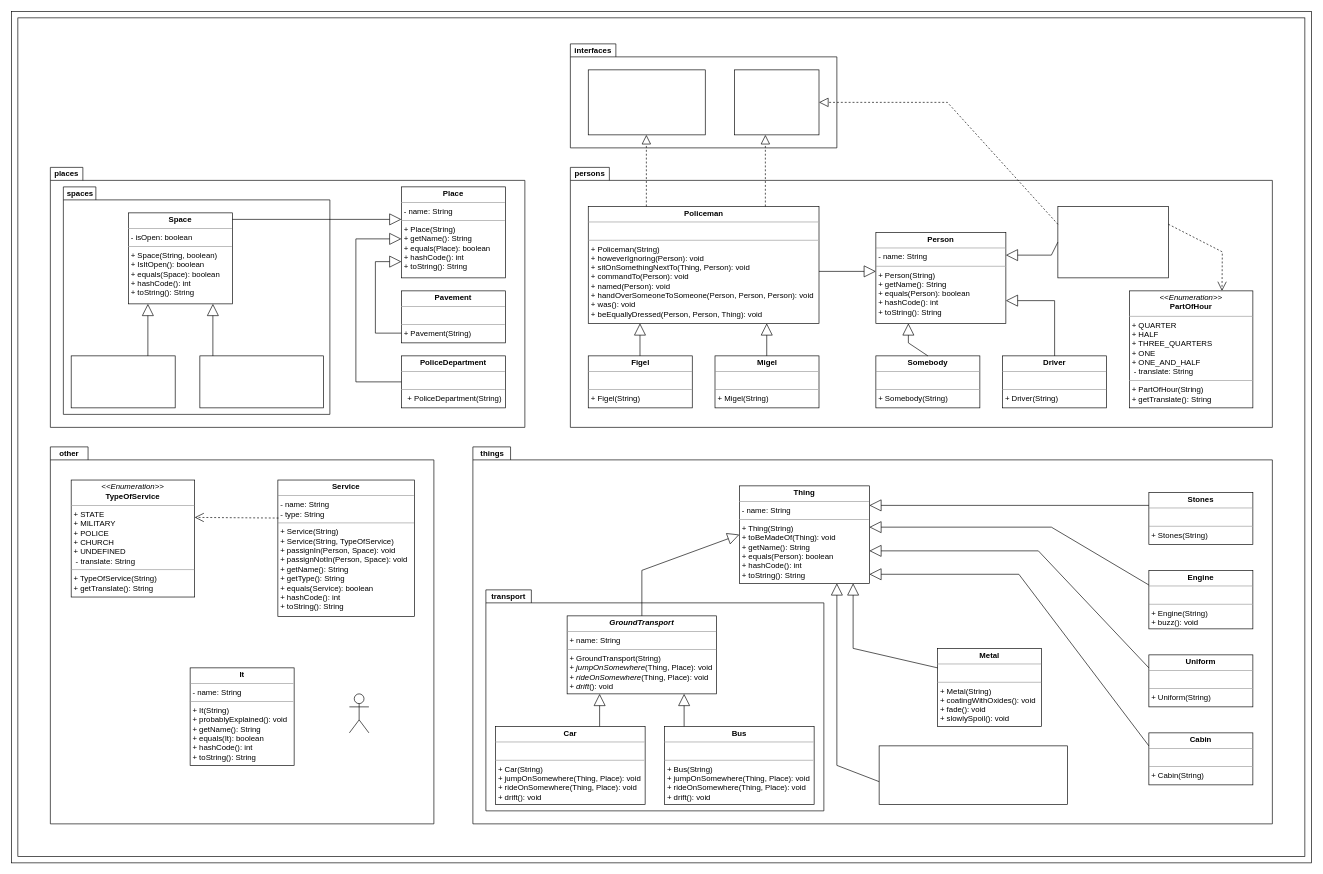
This 1323x874 diagram has some shape labels left out. The shapes that lost their labels are listed below. From the top down, each one's box as (x1, y1, x2, y2) in pixels, then its label:
(588, 69, 705, 135): <<Interface>> Nameable + named(Person person): void
(734, 69, 819, 135): <<Interface>> Wasable + was(): void
(1057, 206, 1168, 278): Neznayka + Neznayka(String) + was(): void + beSomewhereInTime(): void
(71, 355, 175, 408): Air + Air(String, boolean)
(199, 355, 323, 408): BadlyVentilated + BadlyVentilated(String, boolean)
(349, 693, 369, 733): i lov java
(878, 745, 1068, 804): Buttons + Buttons(String) + doNotShineBrightlyAs(Thing, Person, Person): void
